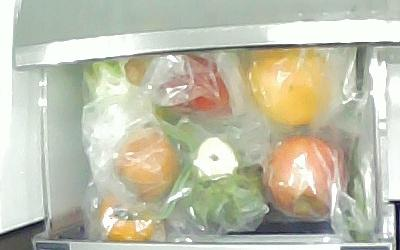apple_vinyl: (264, 135, 348, 221)
broccoli_vinyl: (183, 136, 264, 233)
grapefruit_vinyl: (244, 47, 330, 125)
lettuce_vinyl: (82, 58, 150, 105)
paprika_vinyl: (159, 54, 231, 114)
peach_vinyl: (116, 128, 181, 202)
persimmon_vinyl: (99, 195, 155, 243)
